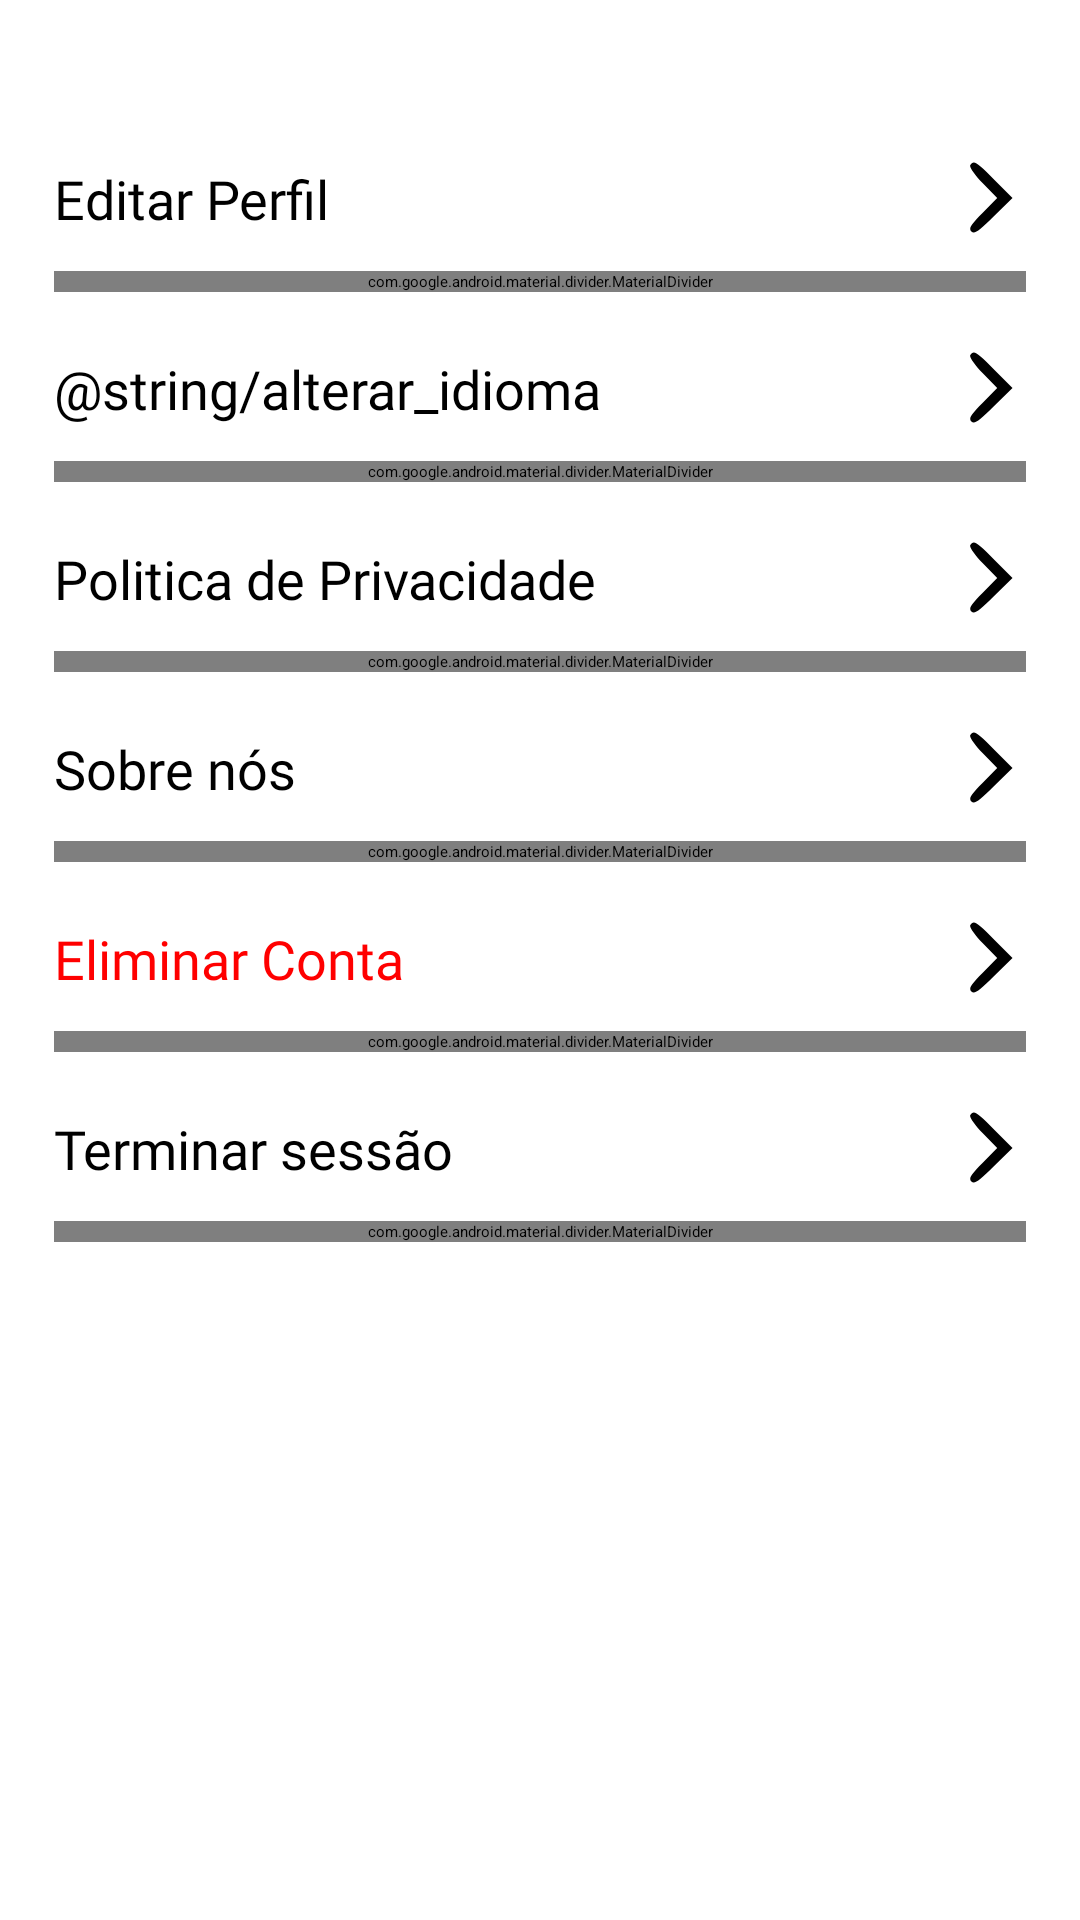

Where to tap for icons on this 1080×1920 app screen, as (x,y):
seta direita: (991,197), (991,387), (991,577), (991,767), (991,957), (991,1147)
